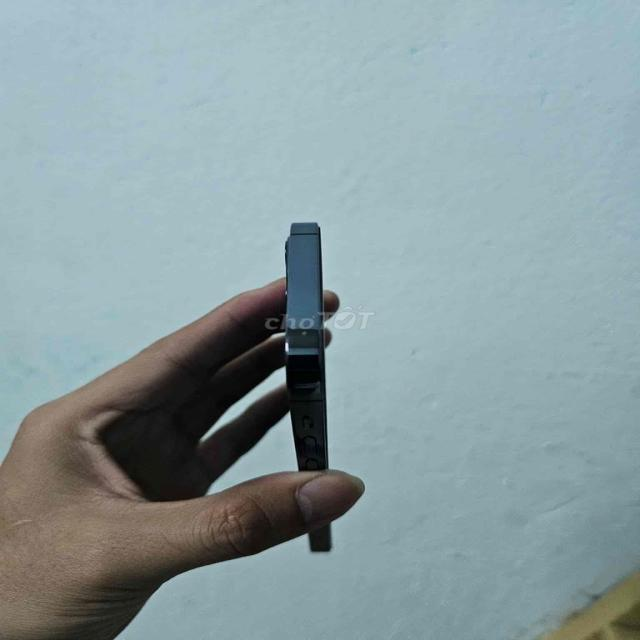gen_12_13: (268, 206, 363, 560)
